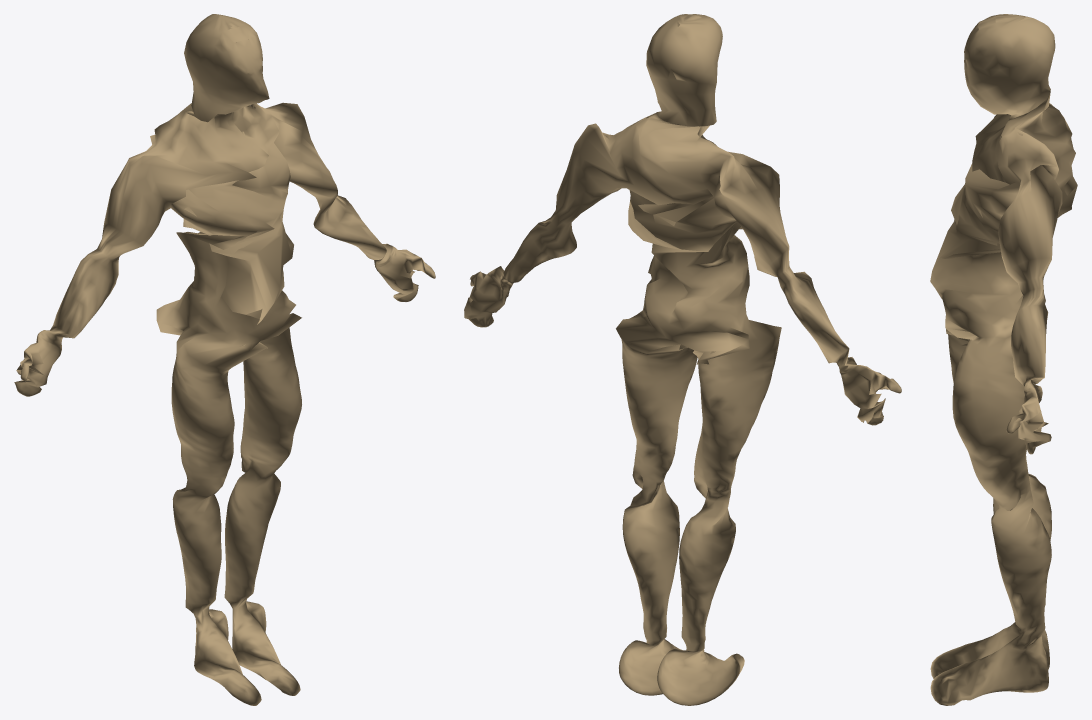
Rendered from ZombieInPlace.obj.
3 renders of one model, left to right at view 1: azimuth 30°, elevation 25°; view 2: azimuth 150°, elevation 25°; view 3: azimuth 270°, elevation 25°, orthographic. The views are drawn at different scales.
Visible parts, largest first — view 1: Box004; view 2: Box004; view 3: Box004.
Boxes of the visible parts, x1,y1,x2,y2 form: Box004: (14, 14, 435, 705); Box004: (464, 14, 901, 705); Box004: (930, 14, 1077, 705).
Size of the model in its own units: 77.5 by 118 by 23.48.
